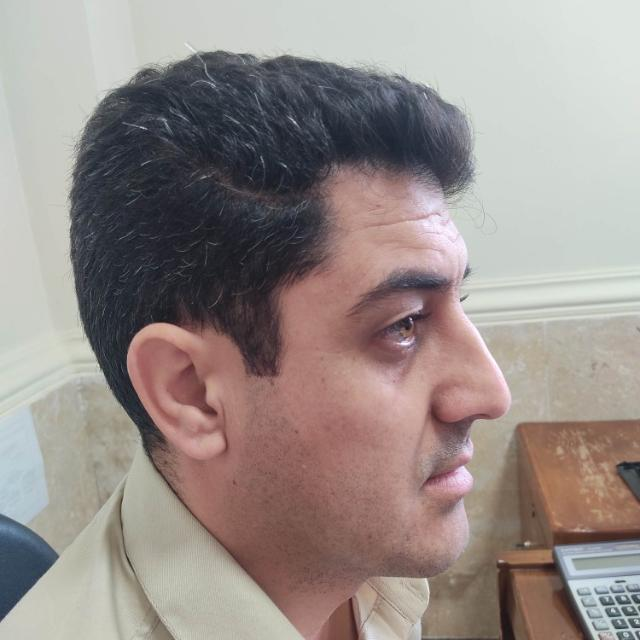forehead: (361, 207, 437, 230), (391, 232, 444, 262)
